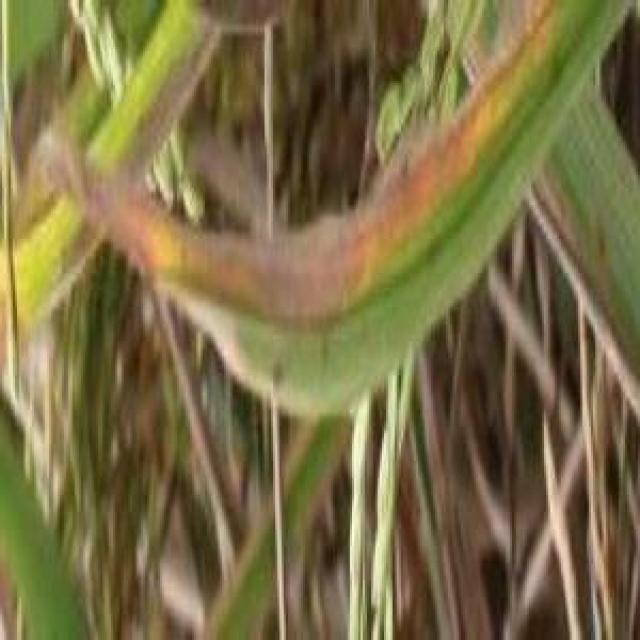Bacterial_Blight: (61, 0, 559, 326)
